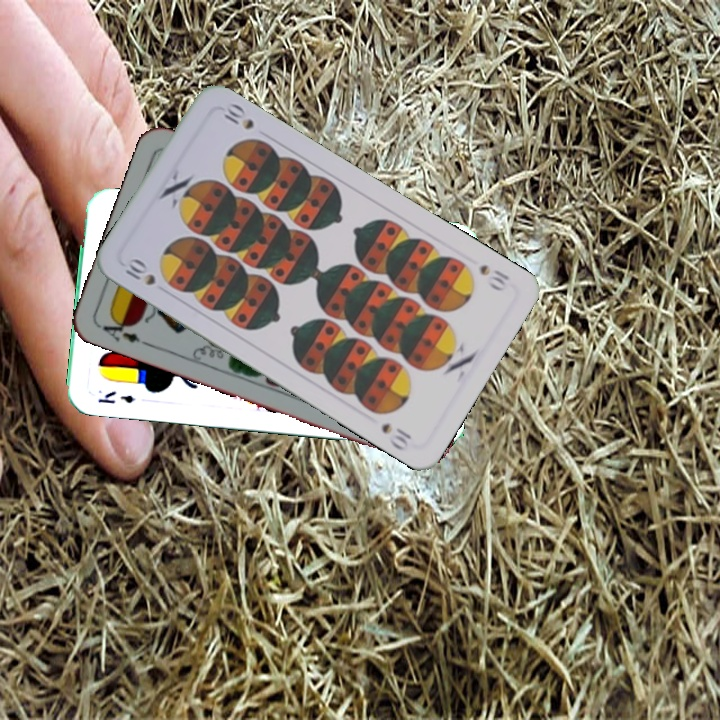EA: (95, 313, 152, 349)
EK: (94, 387, 137, 406)
S10: (119, 254, 159, 289), (475, 260, 513, 294)
